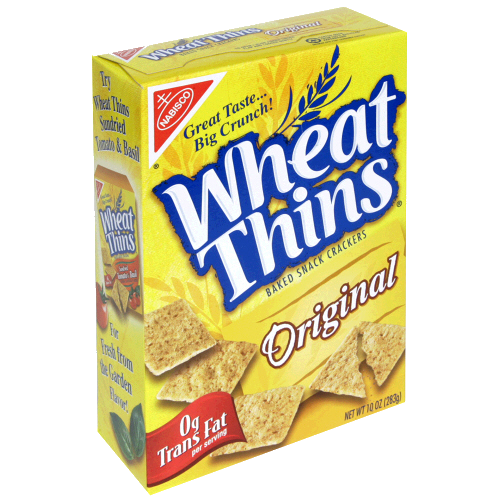grozi_104: (92, 8, 406, 494)
